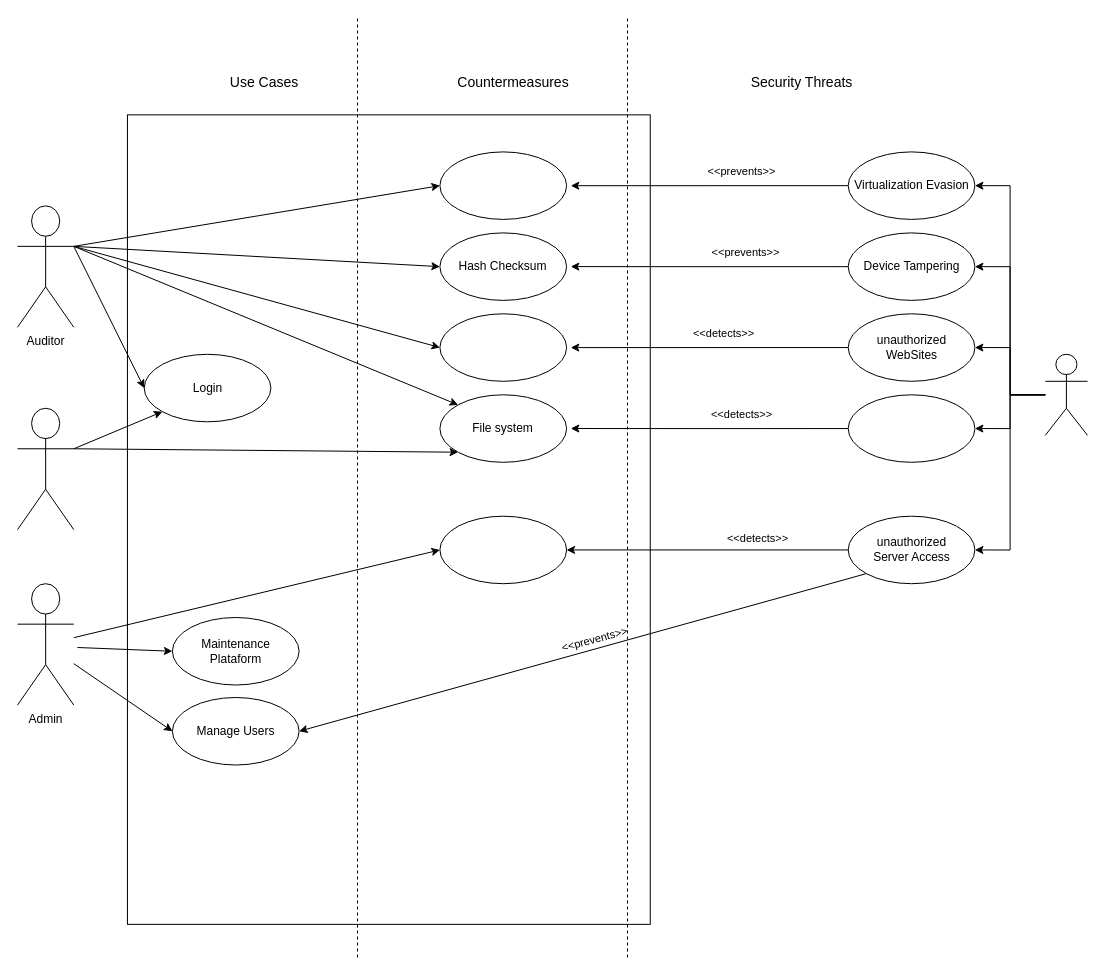
Image size: 1105x976. Some labels were removed from this diagram. The box of each missing label's shape, as (x1, y1, x2, y2) in pixels:
Network Traffic: (439, 313, 567, 381)
Professor: (16, 407, 74, 530)
Student: (1044, 353, 1088, 435)
System logs: (439, 515, 567, 584)
unauthorized Resources: (847, 394, 975, 462)
Virtualization Detection: (439, 151, 567, 219)
